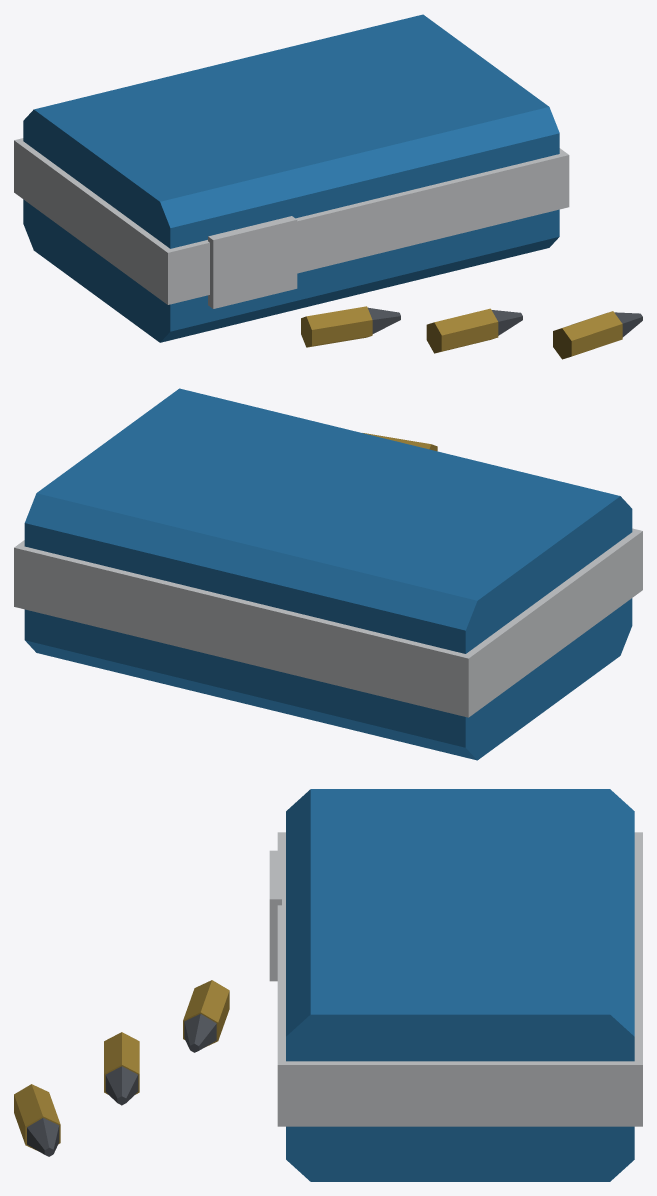
Rendered from ammo_box_9mm.glb.
The picture shows the model from 3 angles, top to bottom: view 1: azimuth 30°, elevation 25°; view 2: azimuth 150°, elevation 25°; view 3: azimuth 270°, elevation 25°; orthographic projection. The views are drawn at different scales.
Visible parts, largest first — view 1: Item; view 2: Item; view 3: Item.
Part boxes in pixels (box(x1,y1,x2,y2)): Item: box(14, 14, 642, 359); Item: box(14, 388, 642, 760); Item: box(14, 789, 642, 1181).
Bounding box in the file's own units: 0.1742 × 0.0585 × 0.1993.
